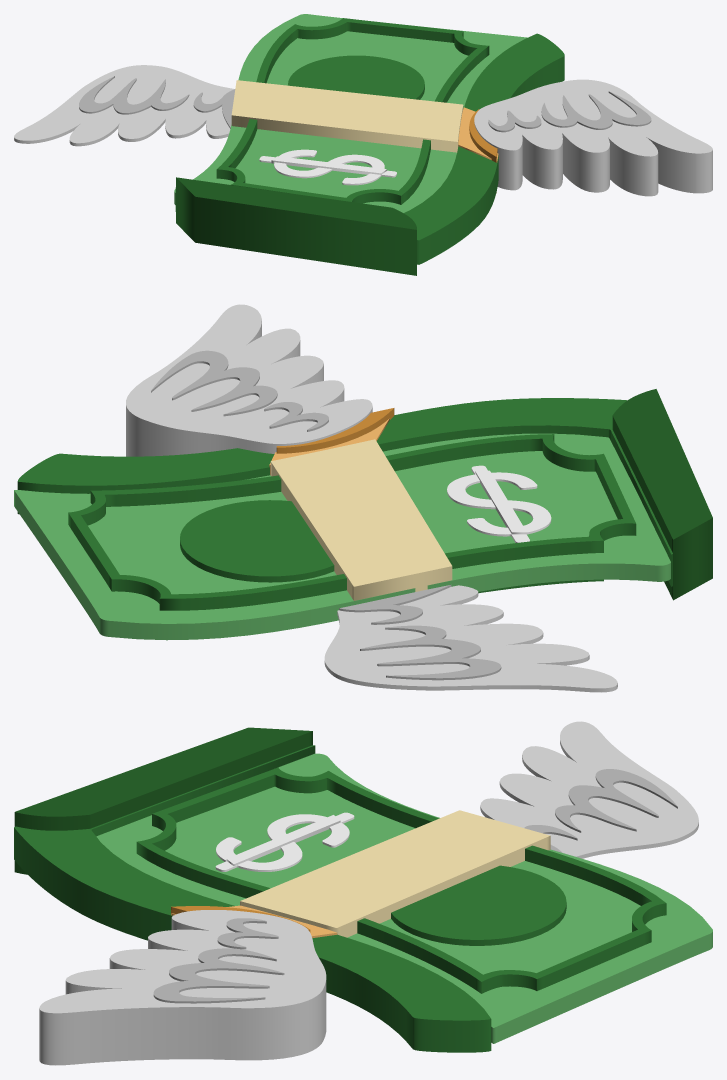
Rendered from emoji_u1f4b8.glb.
3 views of the same model, one above another, from view 1: azimuth 30°, elevation 25°; view 2: azimuth 150°, elevation 25°; view 3: azimuth 270°, elevation 25° (orthographic). The views are drawn at different scales.
Parts seen in each view (by area): view 1: emoji_u1f4b8; view 2: emoji_u1f4b8; view 3: emoji_u1f4b8.
Part boxes in pixels (x1,y1,x2,y2): emoji_u1f4b8: (14,14,712,275); emoji_u1f4b8: (14,304,712,692); emoji_u1f4b8: (14,721,712,1065).
Bounding box in the file's own units: 0.0338 × 0.003 × 0.0316.
